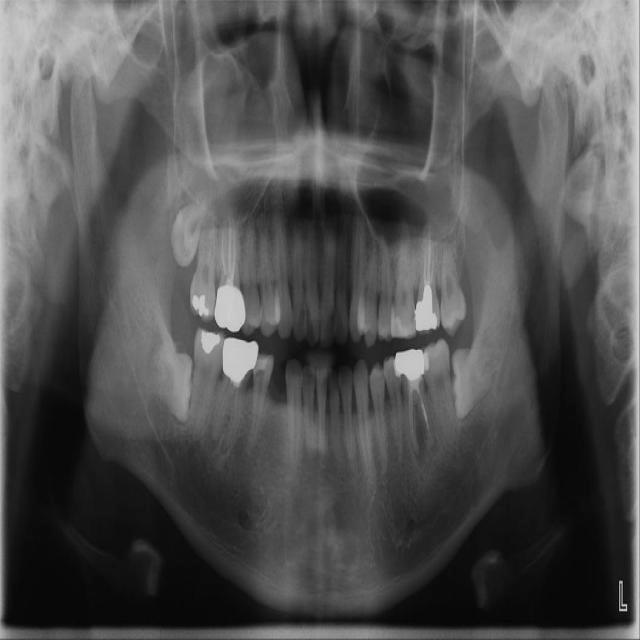Crown: (215, 285, 247, 334), (394, 349, 427, 393), (415, 297, 439, 334)
Filling: (222, 335, 259, 386), (390, 305, 415, 336), (191, 290, 213, 319), (253, 355, 273, 386), (201, 331, 219, 351)
Missing teeth: (269, 356, 290, 405)
Periapical lesion: (413, 425, 425, 468), (424, 437, 438, 457), (220, 440, 230, 457)
Root Canal Treatment: (414, 387, 431, 439), (409, 384, 418, 447), (230, 230, 235, 287), (228, 215, 232, 286), (426, 232, 431, 286), (222, 231, 227, 273), (429, 259, 434, 287), (424, 245, 427, 287)
impacted tooth: (139, 348, 191, 420), (451, 345, 502, 416), (171, 194, 206, 264)
